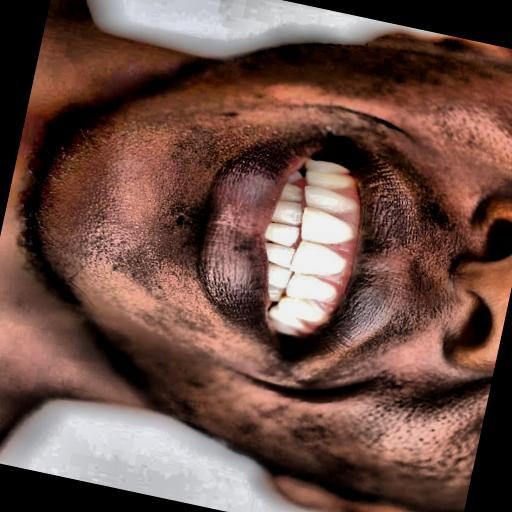Healthy: (215, 121, 384, 404)
